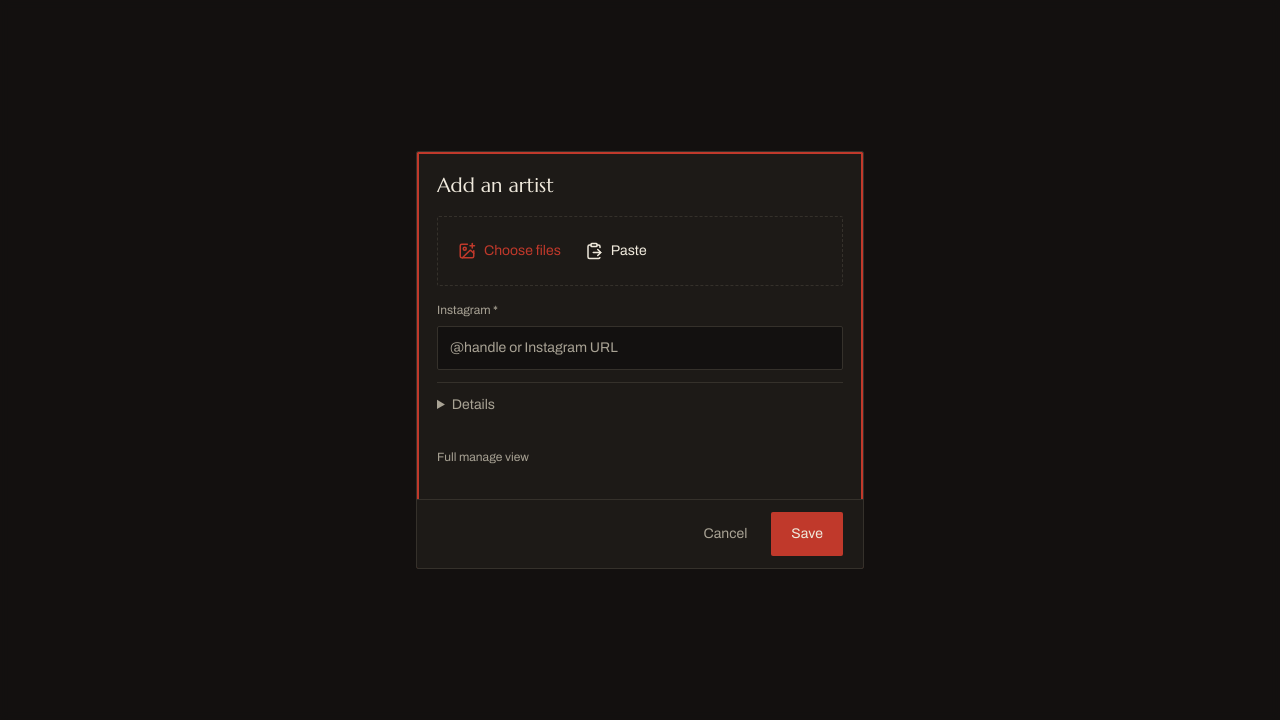
Test: compact capture › rejects post links without starting an upload
This screenshot has width=1280, height=720.
In the field with placeholder "@handle or Instagram URL": (640, 348) [437,326,843,370], type "https://www.instagram.com/p/ABC123/"
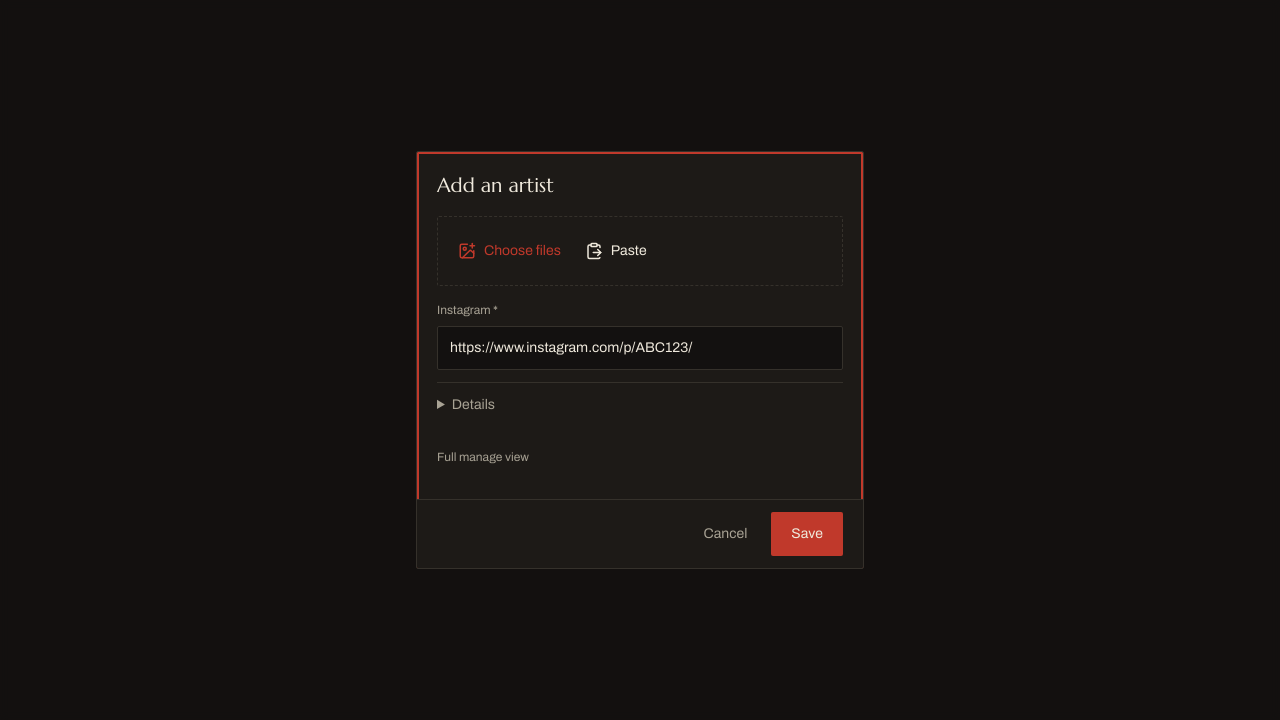
Submit the dialog, box [416,151,864,569]
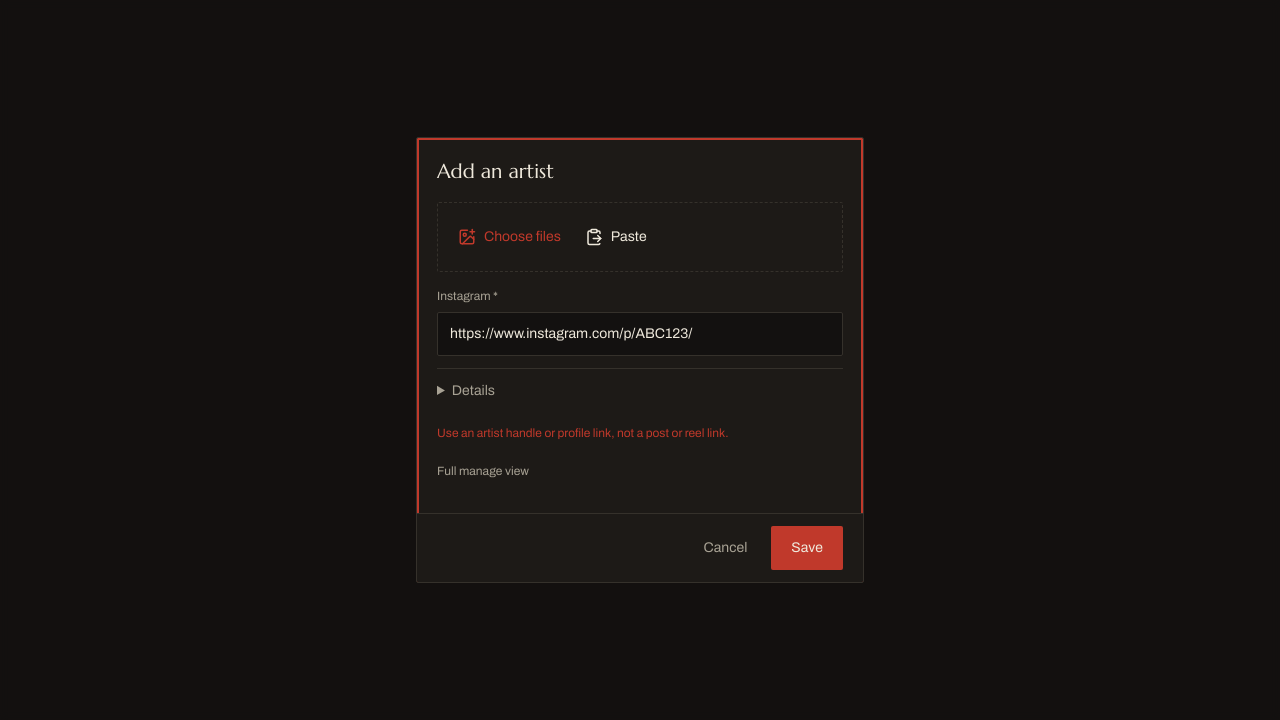
Result: the message shows "not a post or reel link" at [437,426,728,440]
